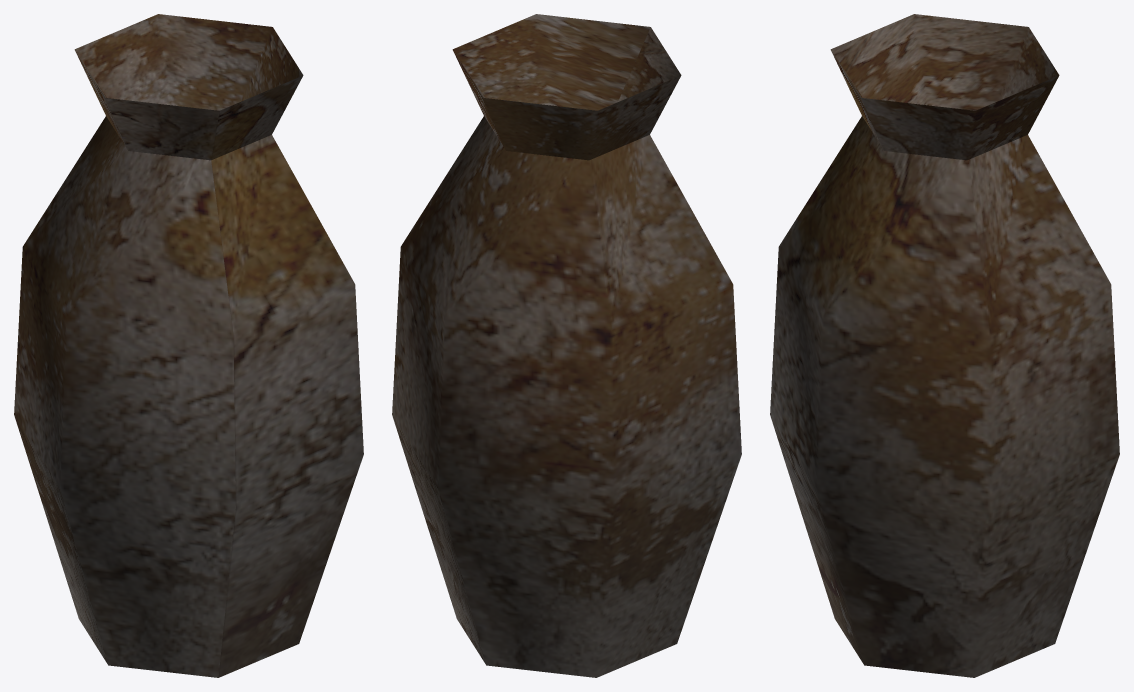
Rendered from Jug2_LOD1.fbx.
3 views of the same model, side by side, from view 1: azimuth 30°, elevation 25°; view 2: azimuth 150°, elevation 25°; view 3: azimuth 270°, elevation 25° (orthographic).
Visible parts, largest first — view 1: jug2_dzban3; view 2: jug2_dzban3; view 3: jug2_dzban3.
Part boxes in pixels (x1,y1,x2,y2): jug2_dzban3: [14, 14, 363, 677]; jug2_dzban3: [392, 14, 741, 677]; jug2_dzban3: [770, 14, 1119, 677].
Size of the model in its own units: 1.48 by 2.66 by 1.48.
